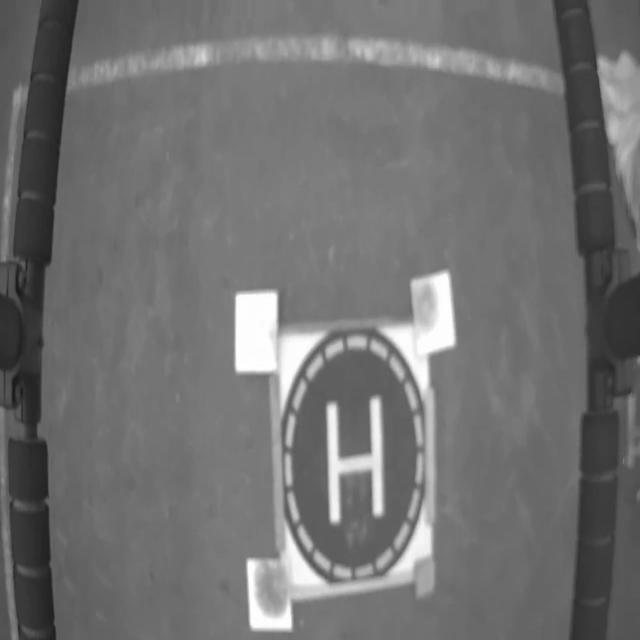Helipad: (326, 395, 386, 527)
